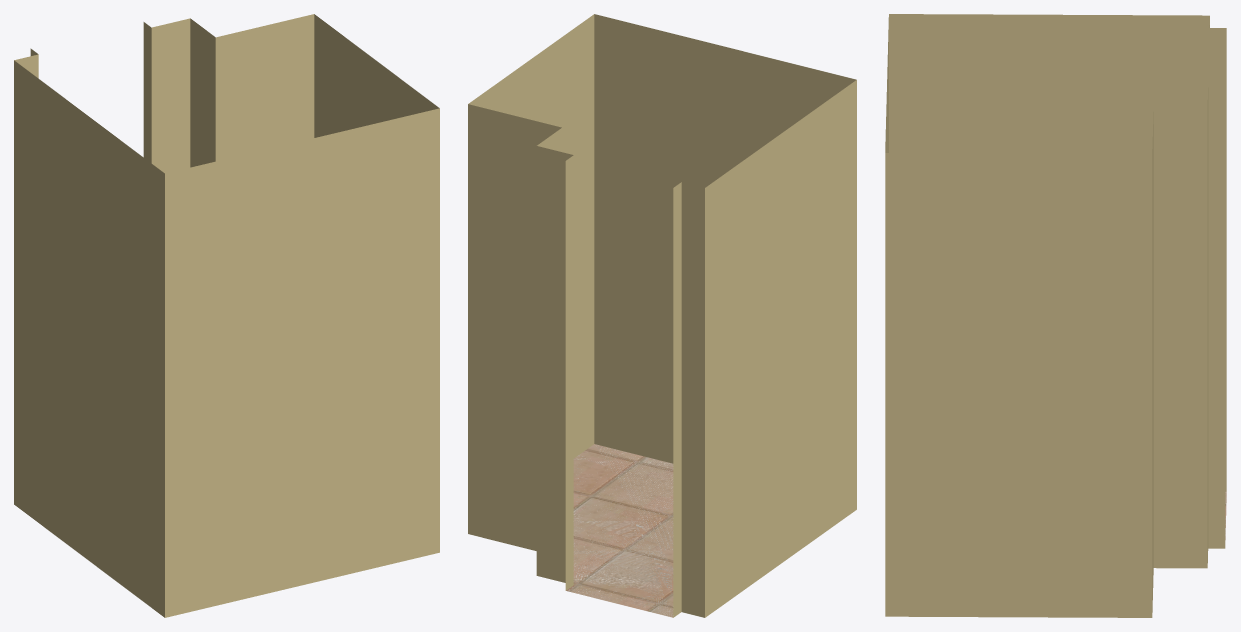
File: CUA003.obj
The picture shows the model from 3 angles, left to right: view 1: azimuth 30°, elevation 25°; view 2: azimuth 150°, elevation 25°; view 3: azimuth 270°, elevation 25°; orthographic projection. The views are drawn at different scales.
Parts seen in each view (by area): view 1: Mesh1 CUA003 Model; view 2: Mesh1 CUA003 Model; view 3: Mesh1 CUA003 Model.
Boxes of the visible parts, x1,y1,x2,y2 form: Mesh1 CUA003 Model: (14,14,439,617); Mesh1 CUA003 Model: (468,14,856,617); Mesh1 CUA003 Model: (885,14,1226,617).
Bounding box in the file's own units: 2.34 × 3.6 × 2.4.
Materials: 3 (2 with a texture image).
